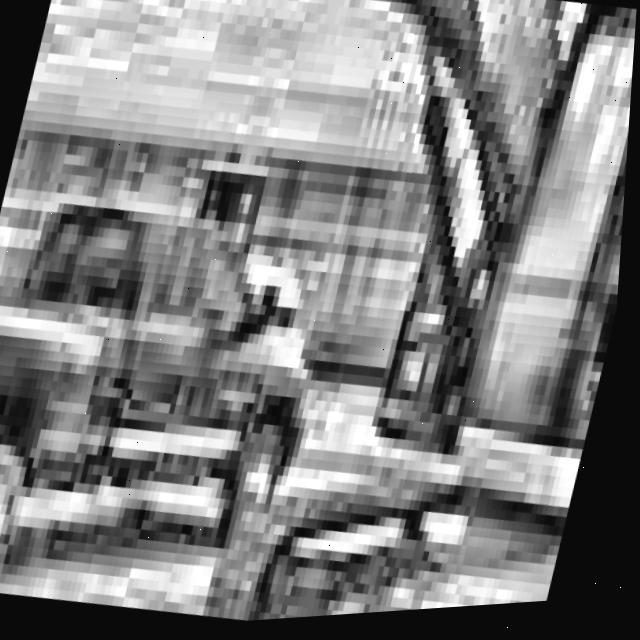excavator: (205, 0, 640, 627)
